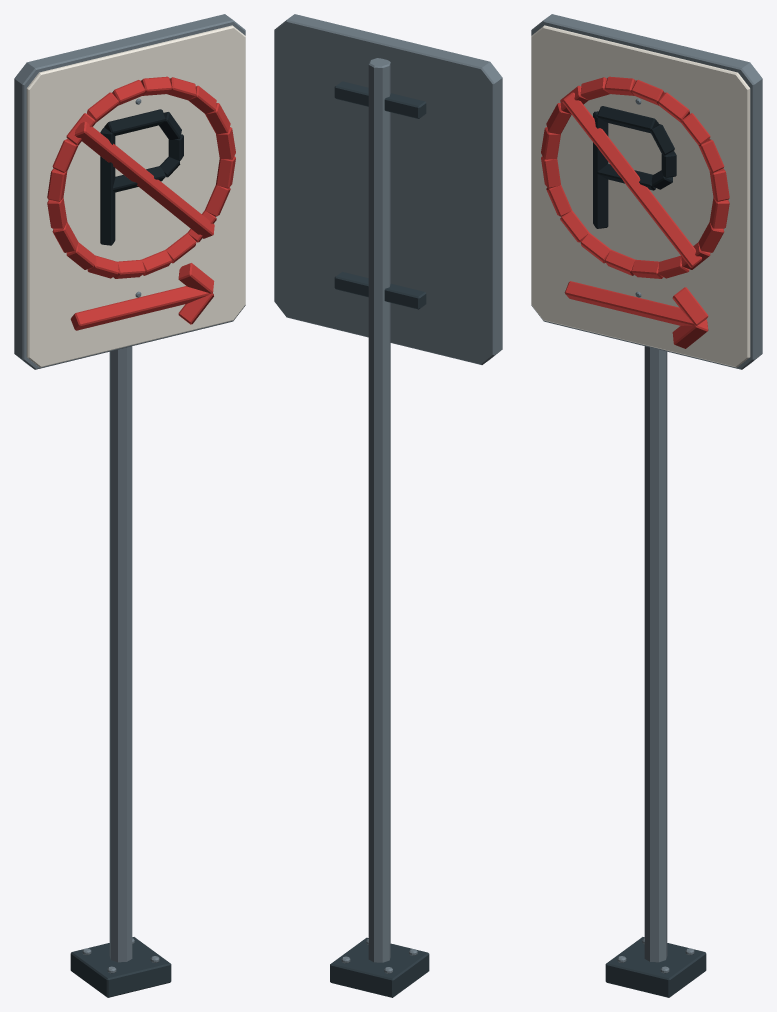
The model's file is b02_no_parking_sign.glb.
3 renders of one model, left to right at view 1: azimuth 30°, elevation 25°; view 2: azimuth 150°, elevation 25°; view 3: azimuth 330°, elevation 25°, orthographic.
Visible parts, largest first — view 1: b02_no_parking_sign; view 2: b02_no_parking_sign; view 3: b02_no_parking_sign.
Part boxes in pixels (<box>): b02_no_parking_sign: <box>14,14,245,997</box>; b02_no_parking_sign: <box>274,14,502,997</box>; b02_no_parking_sign: <box>531,14,762,997</box>.
Size of the model in its own units: 0.62 by 2.5 by 0.2256.
